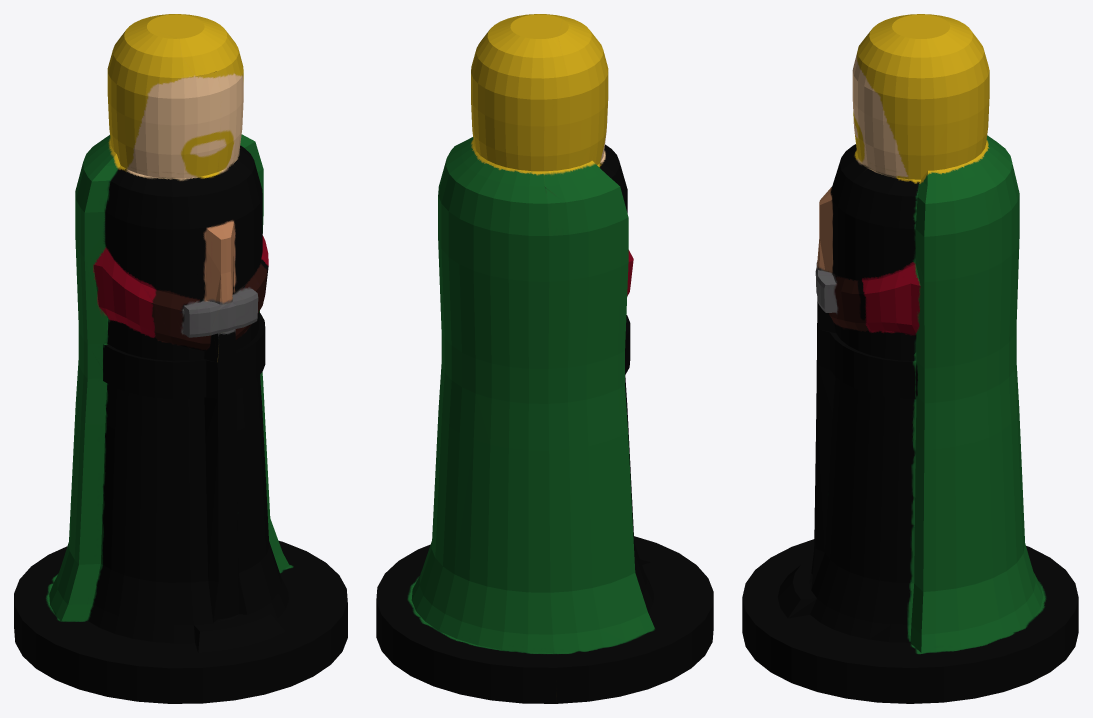
Rendered from boromir.fbx.
3 views of the same model, side by side, from view 1: azimuth 30°, elevation 25°; view 2: azimuth 150°, elevation 25°; view 3: azimuth 270°, elevation 25° (orthographic).
Visible parts, largest first — view 1: node_id4; view 2: node_id4; view 3: node_id4.
Boxes of the visible parts, x1,y1,x2,y2 form: node_id4: (14,14,347,703); node_id4: (376,14,713,703); node_id4: (742,14,1078,703).
Bounding box in the file's own units: 0.2574 × 0.512 × 0.2574.
Materials: 1 (1 with a texture image).
